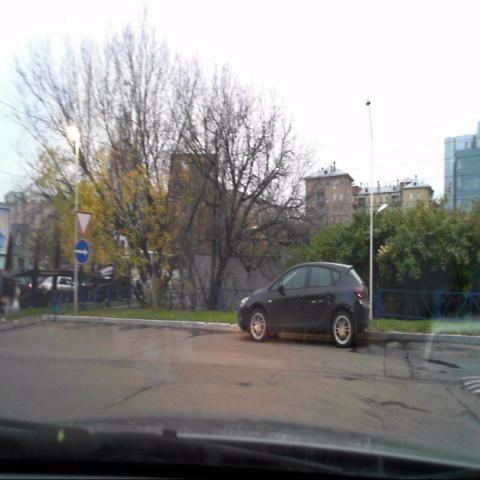4_1_2_1: (74, 240, 89, 263)
